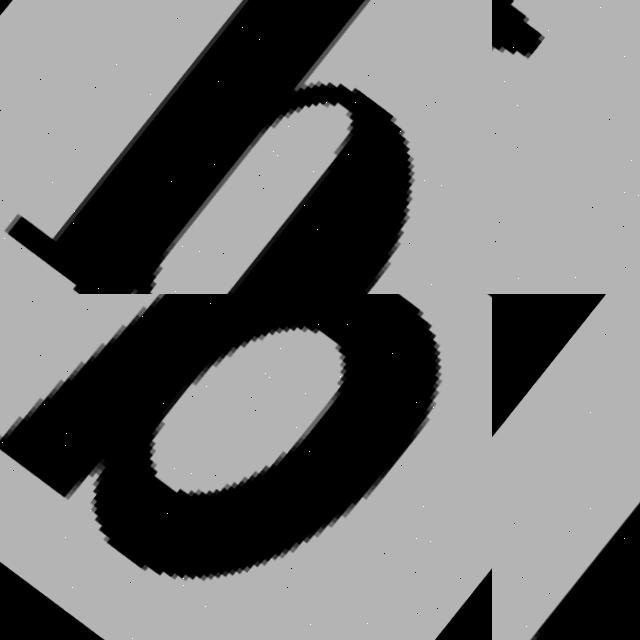3: (492, 0, 640, 294)
G: (0, 294, 492, 640)
N: (492, 294, 640, 640)
Q: (0, 0, 492, 294)
